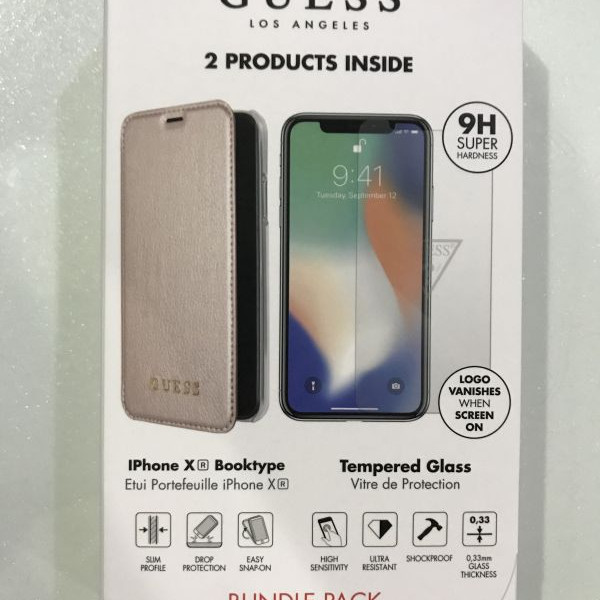Guess: (145, 369, 206, 403)
